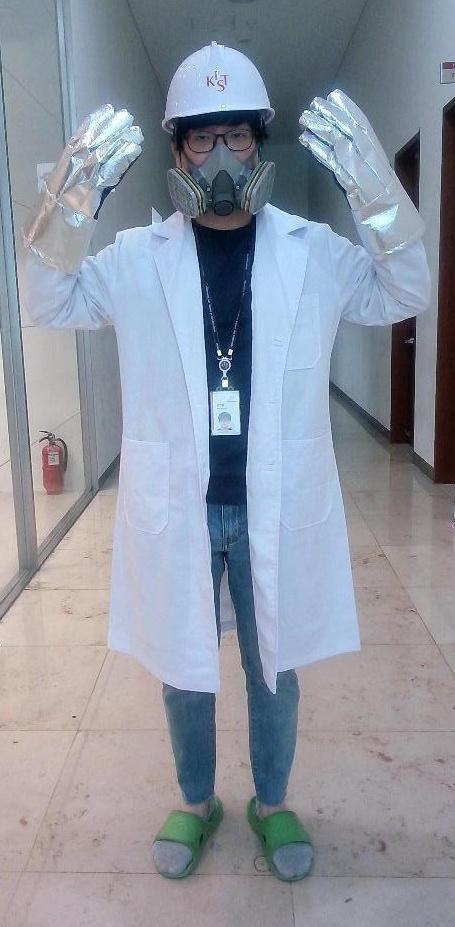lab_coat: (104, 240, 354, 685)
